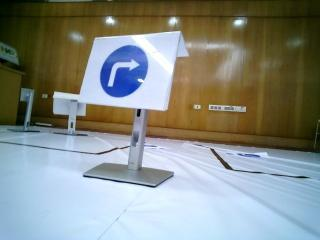right: (87, 37, 162, 107)
